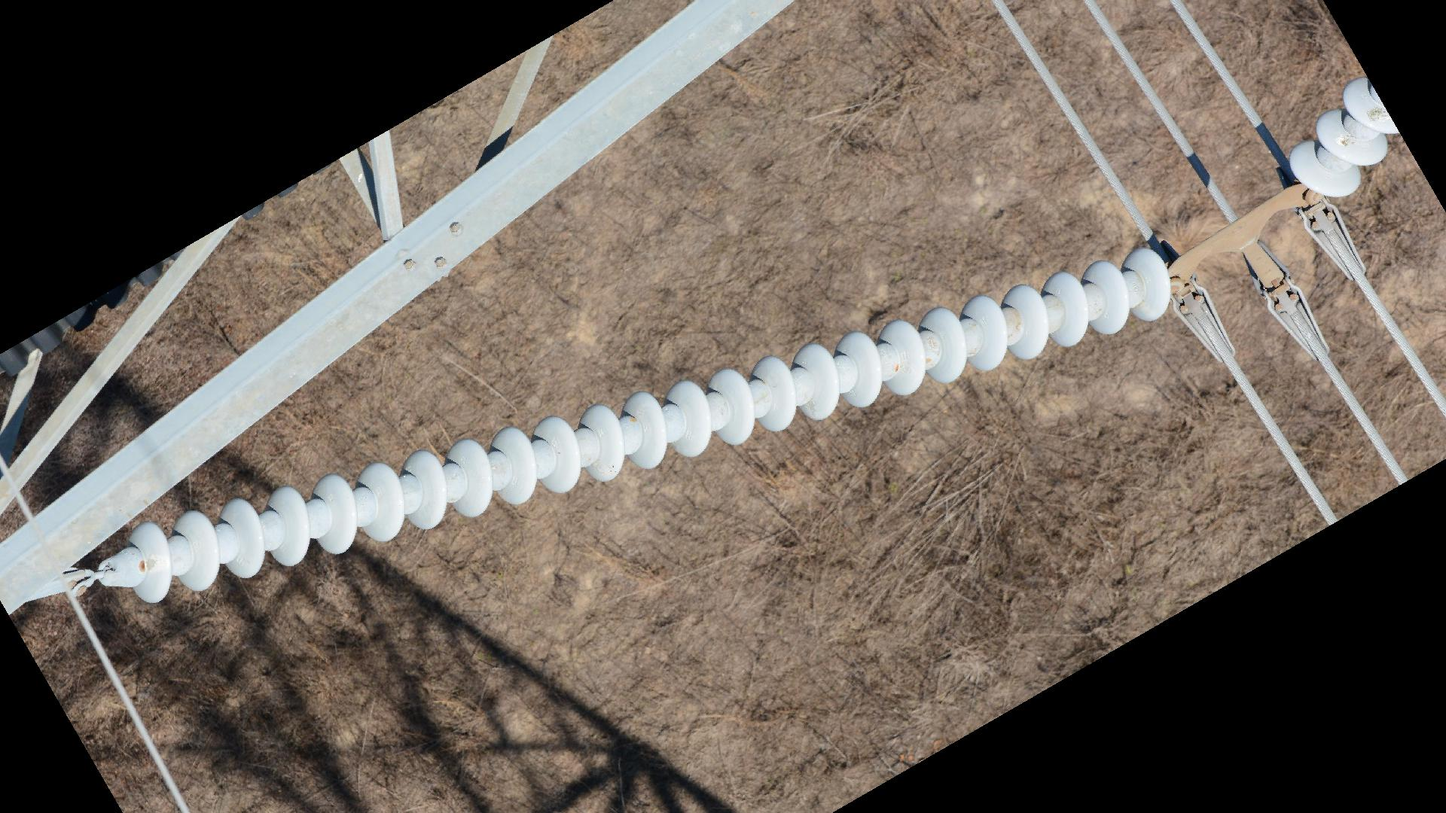insulator: (126, 241, 1177, 611), (1286, 74, 1407, 206)
insulator_flashover: (143, 553, 166, 572)
